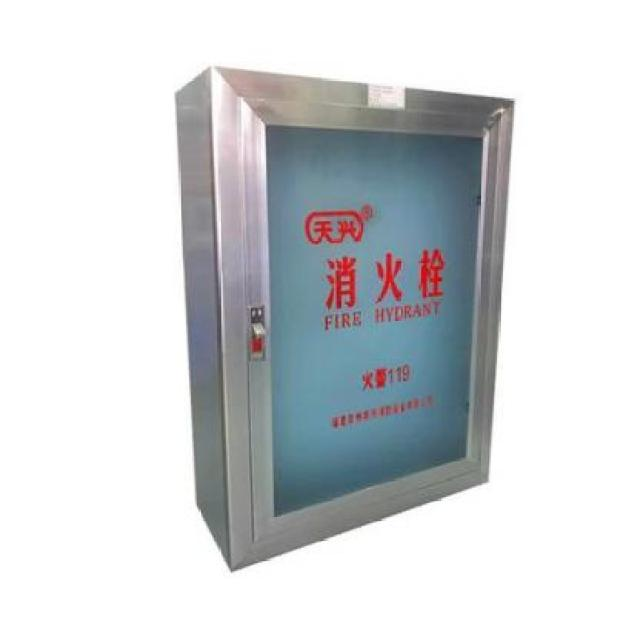firehydrant: (171, 59, 519, 578)
